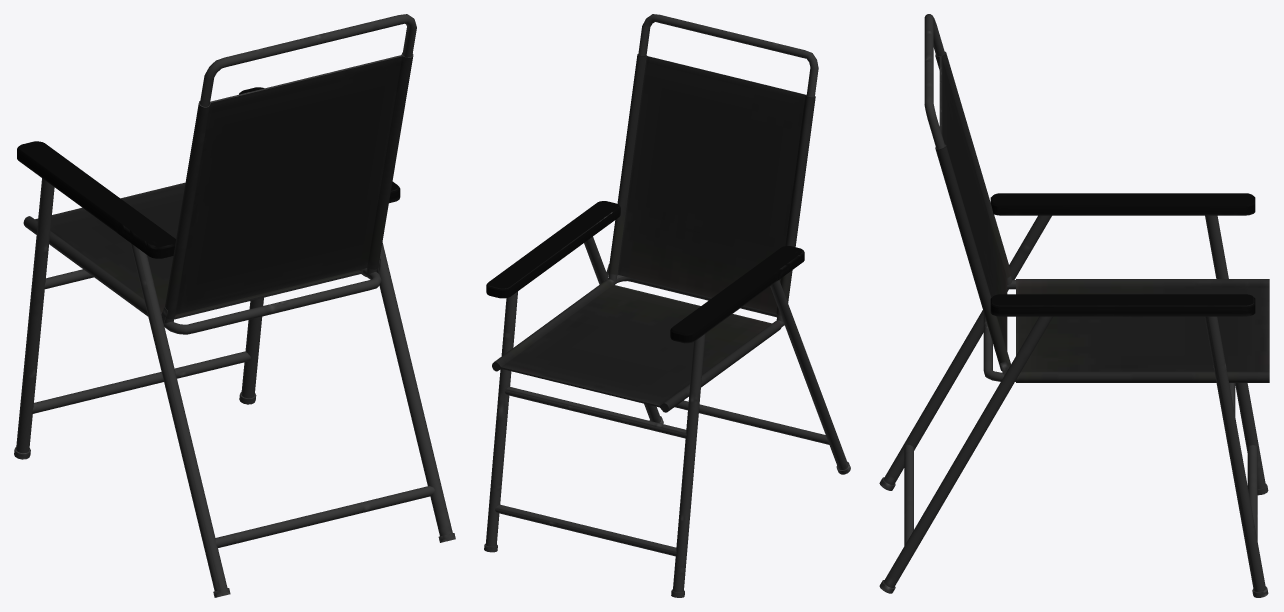
The model's file is Outdoor_Chair.glb.
3 views of the same model, side by side, from view 1: azimuth 30°, elevation 25°; view 2: azimuth 150°, elevation 25°; view 3: azimuth 270°, elevation 25° (orthographic). The views are drawn at different scales.
Parts seen in each view (by area): view 1: Outdoor_Chair; view 2: Outdoor_Chair; view 3: Outdoor_Chair.
Part boxes in pixels (x1,y1,x2,y2): Outdoor_Chair: (14, 14, 455, 597); Outdoor_Chair: (484, 14, 850, 597); Outdoor_Chair: (879, 14, 1269, 597).
Bounding box in the file's own units: 0.516 × 1.03 × 0.7476.
Materials: 1 (1 with a texture image).
